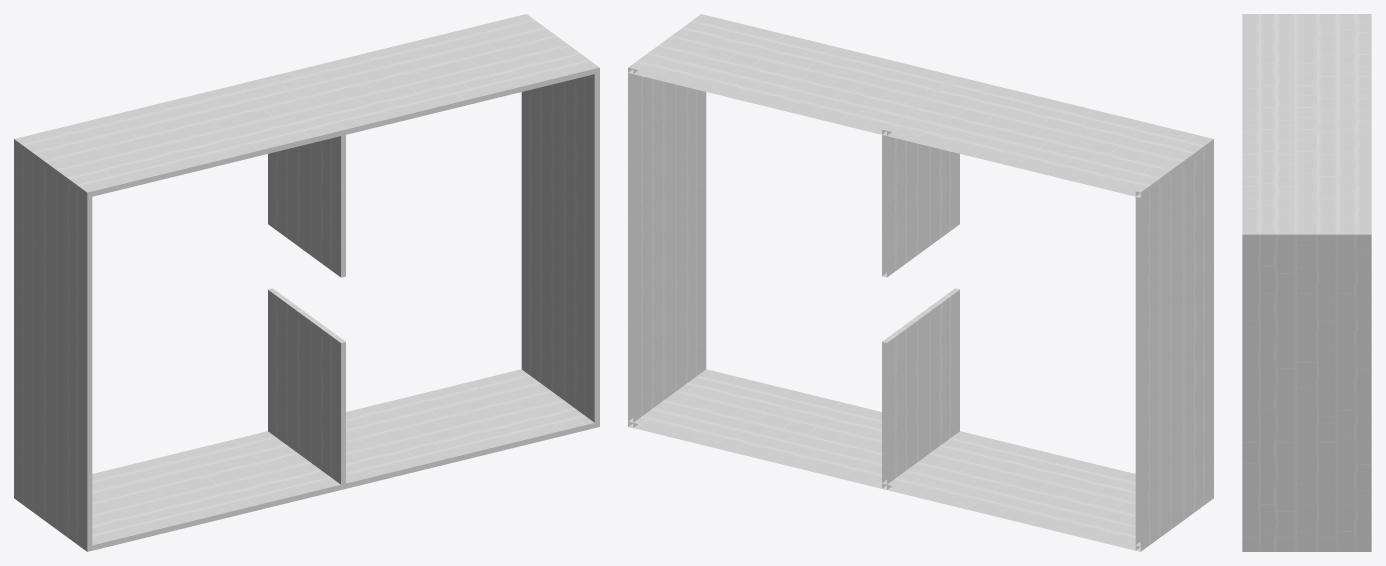
File: wall_1.obj
The picture shows the model from 3 angles, left to right: view 1: azimuth 30°, elevation 25°; view 2: azimuth 150°, elevation 25°; view 3: azimuth 270°, elevation 25°; orthographic projection. The views are drawn at different scales.
Visible parts, largest first — view 1: walls; view 2: walls; view 3: walls.
Part boxes in pixels (x1,y1,x2,y2): walls: (14, 14, 599, 551); walls: (628, 14, 1213, 551); walls: (1242, 14, 1371, 551).
Bounding box in the file's own units: 10.1 × 6.77 × 2.5.
